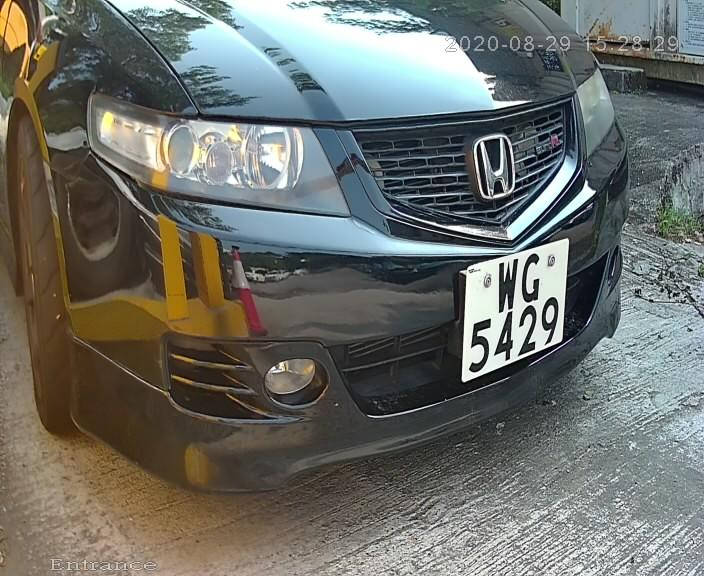License Plate: (452, 222, 579, 409)
